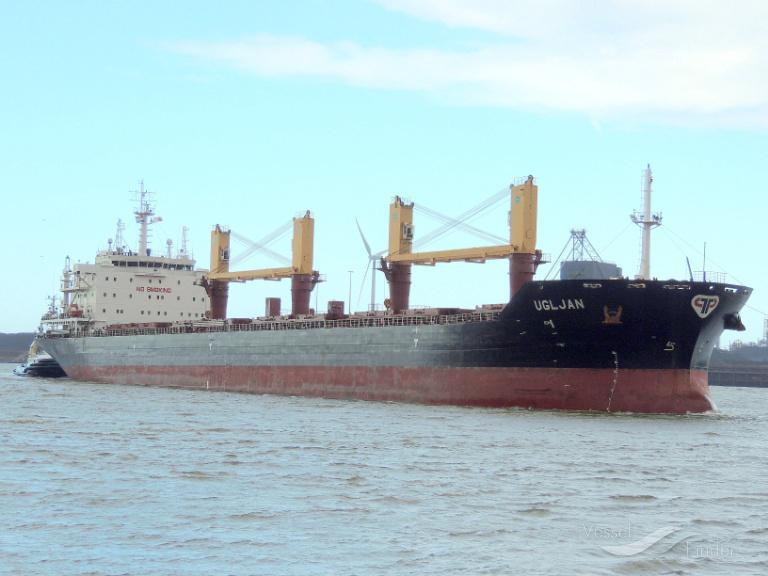OCR: (530, 294, 597, 324)
